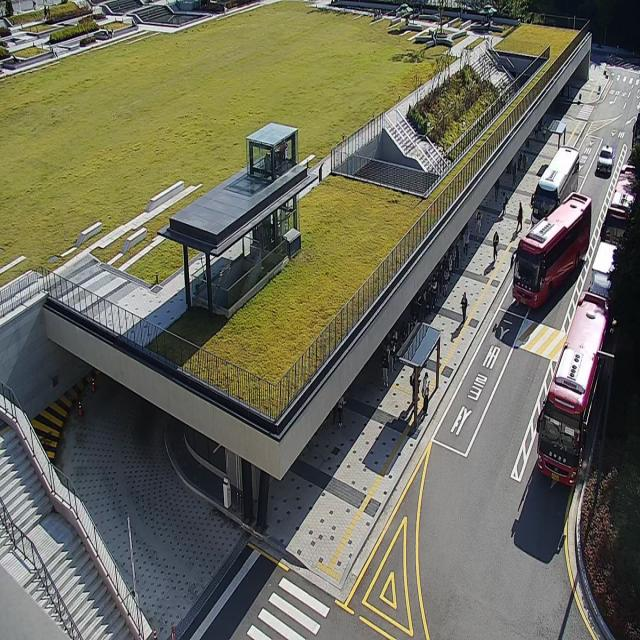queue: (414, 224, 470, 431)
